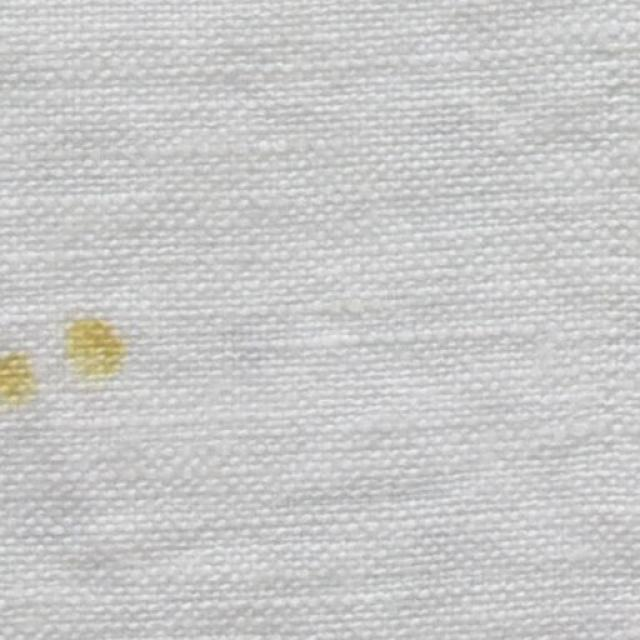Stain: (65, 321, 125, 378), (0, 354, 36, 406)
